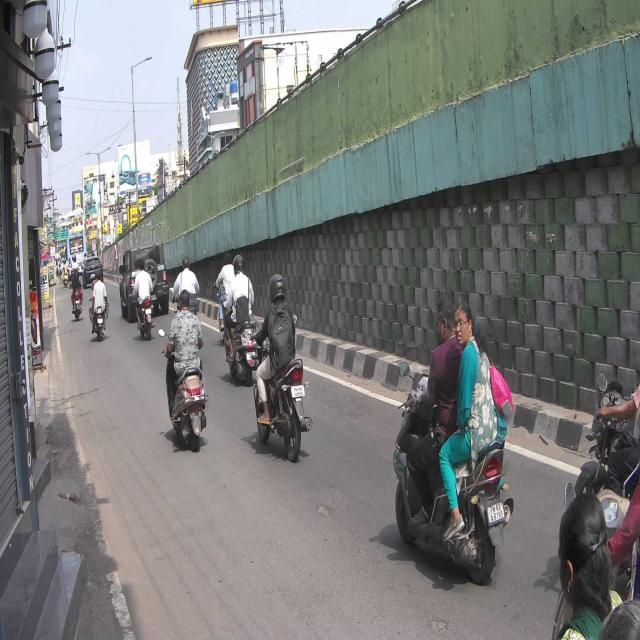double_rider: (393, 294, 515, 586)
single_rider: (255, 269, 310, 462), (162, 287, 209, 455)
